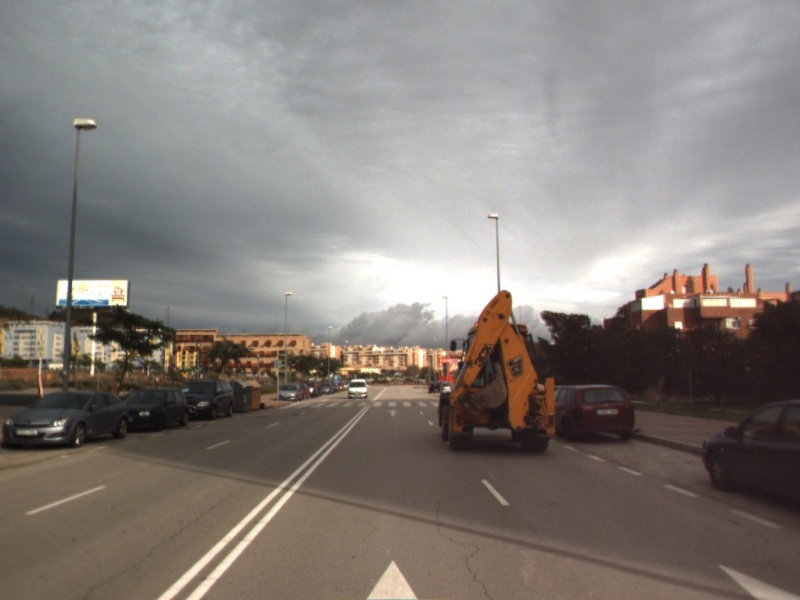STRAIGHT: (385, 408, 401, 418)
